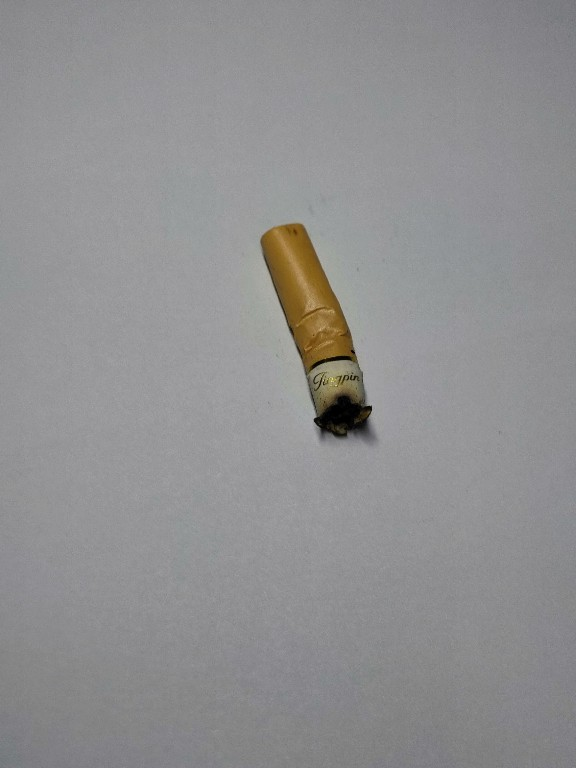cigarette: (259, 220, 376, 441)
